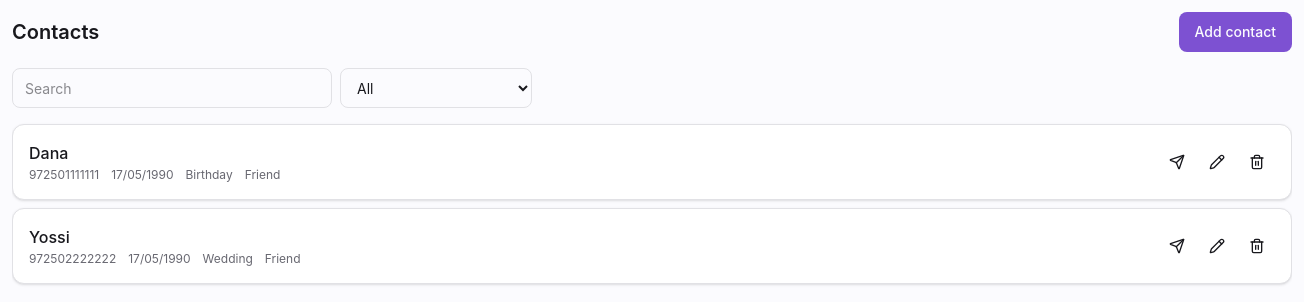
Test: search and filter › says so when nothing matches, rather than looking empty
expect the text "Dana" is shown: met, box [29,141,68,165]
Type "nobody" into the field with placeholder "Search" at [172, 88], box [12,68,332,108]
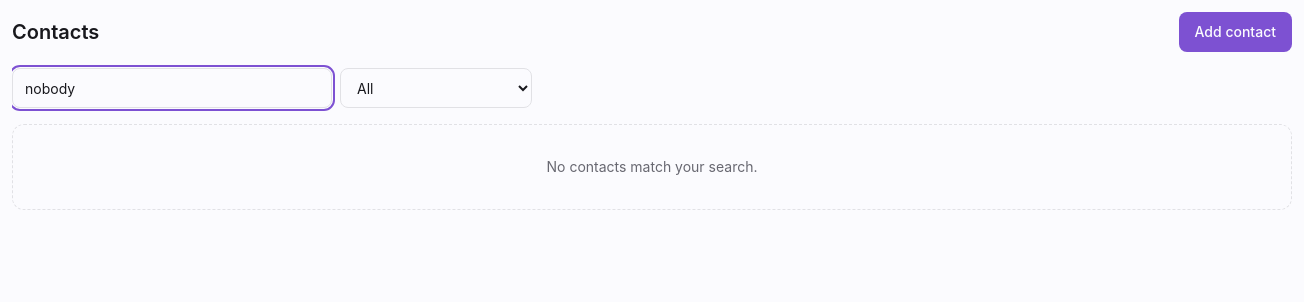
expect the text "No contacts match your search." is shown: met, box [546,157,758,177]
